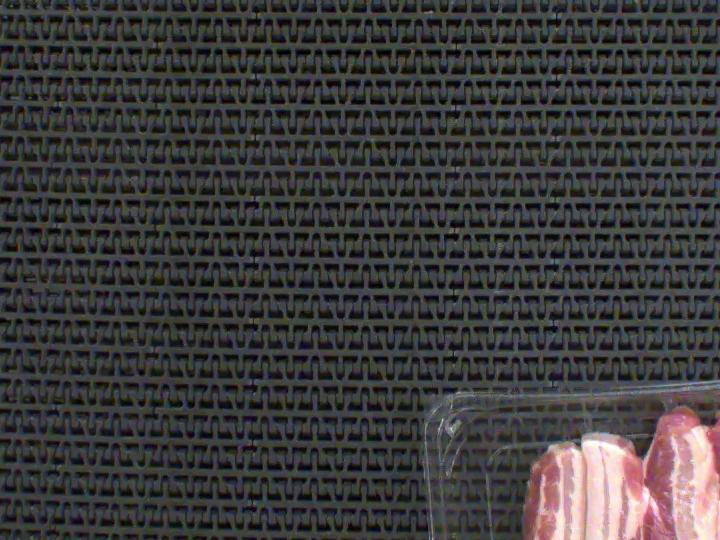packaging-error: (644, 394, 713, 428)
